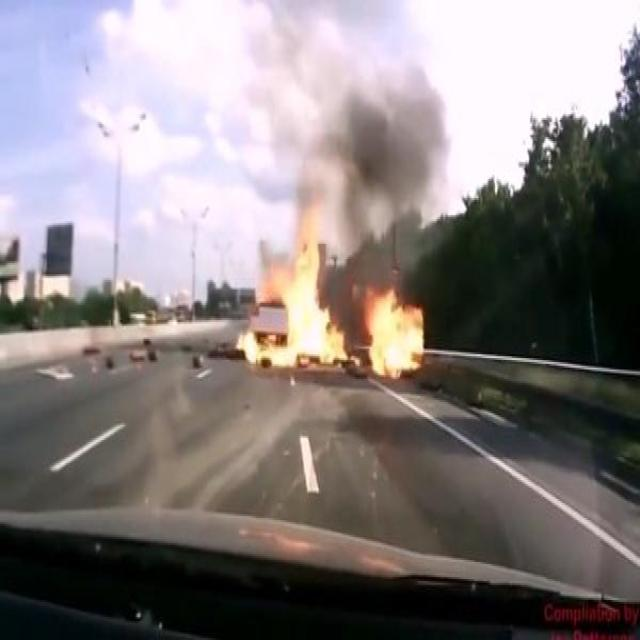Fire: (228, 210, 428, 386)
Smoke: (313, 85, 443, 272)
